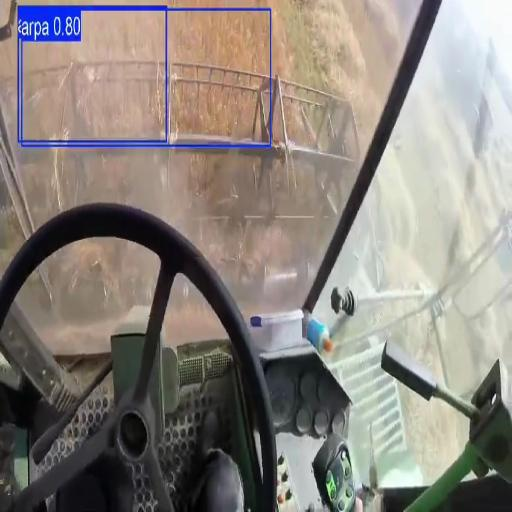arpa: (27, 13, 164, 77), (76, 65, 165, 136), (168, 12, 270, 73), (182, 90, 234, 133), (30, 92, 63, 134), (272, 30, 293, 71)
